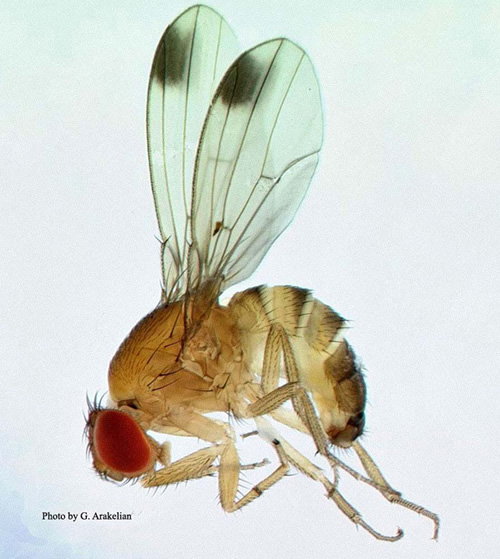phorid fly: (56, 2, 469, 548)
